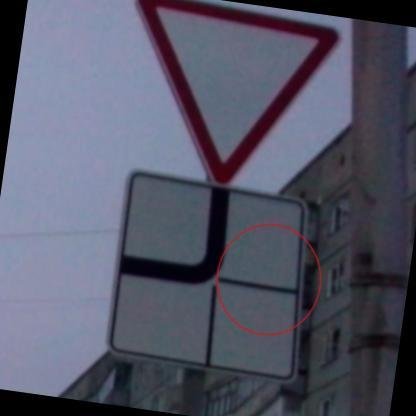road_sign: (110, 173, 303, 378), (139, 0, 342, 183)
